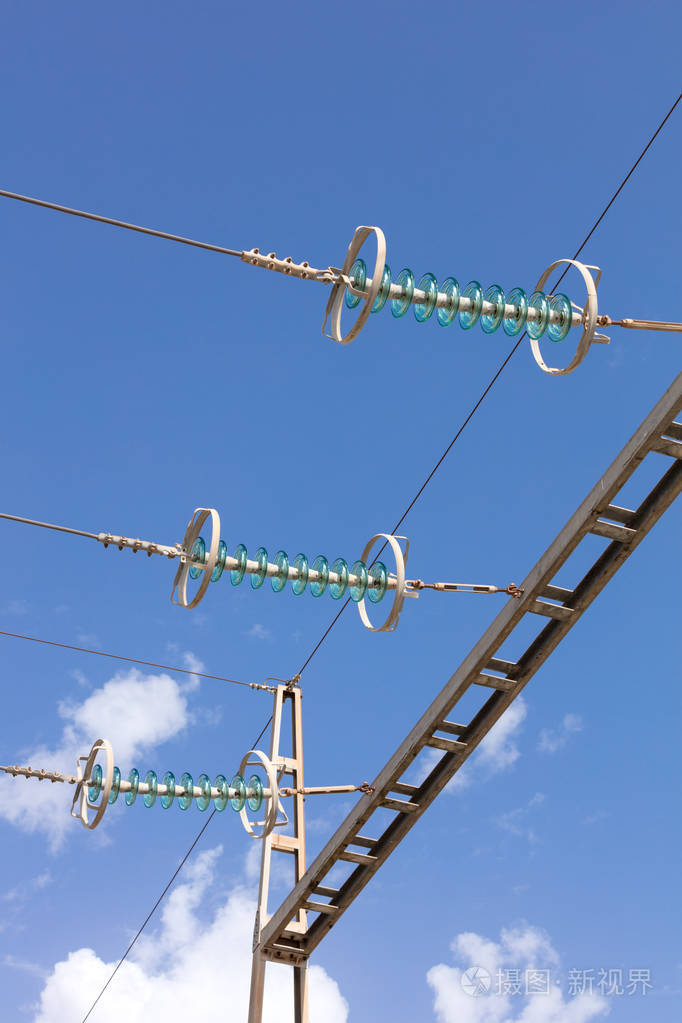insulator: (339, 256, 573, 338), (180, 541, 389, 605), (86, 762, 264, 814)
